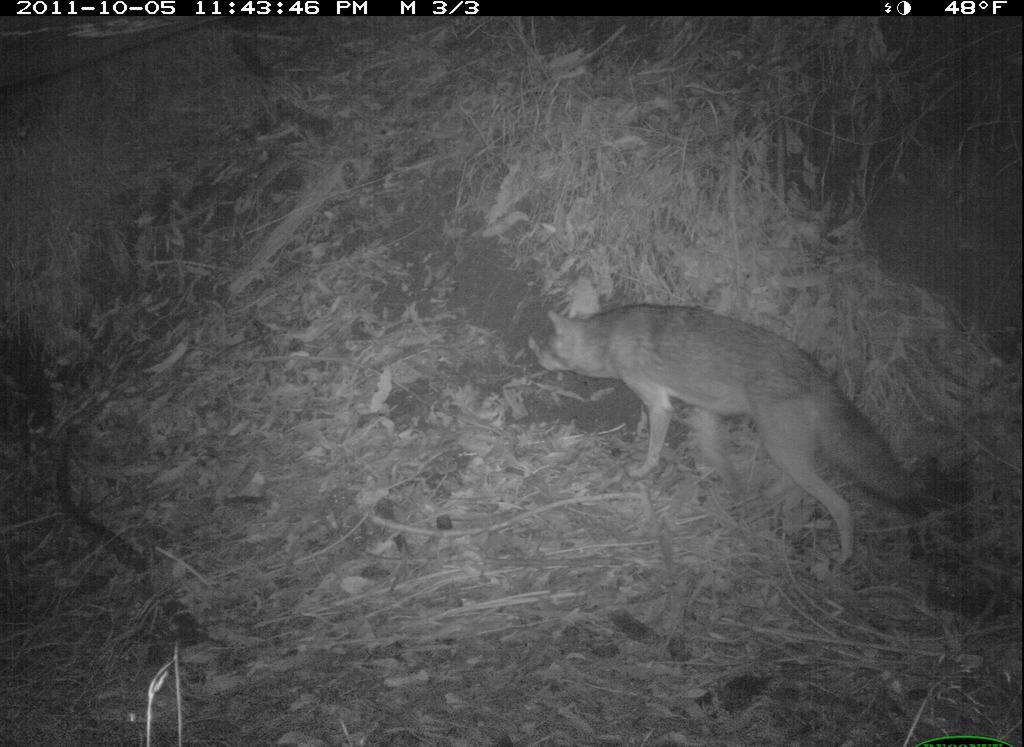coyote: (528, 273, 940, 580)
